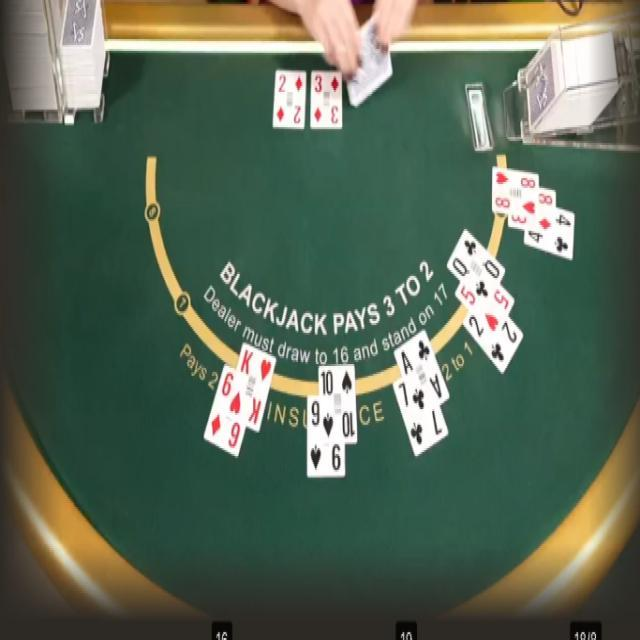Card-10: (319, 364, 357, 443)
Card-2: (463, 311, 524, 374), (272, 68, 306, 128)
Card-3: (310, 71, 342, 128)
Card-4: (525, 208, 574, 260)
Card-5: (455, 282, 514, 335)
Card-6: (202, 363, 246, 457)
Card-7: (392, 379, 449, 457)
Card-8: (492, 166, 538, 218), (509, 186, 556, 234)
Card-9: (307, 395, 345, 478)
Card-A: (394, 330, 449, 419)
Card-K: (225, 341, 277, 435)
Card-Q: (446, 229, 505, 305)
